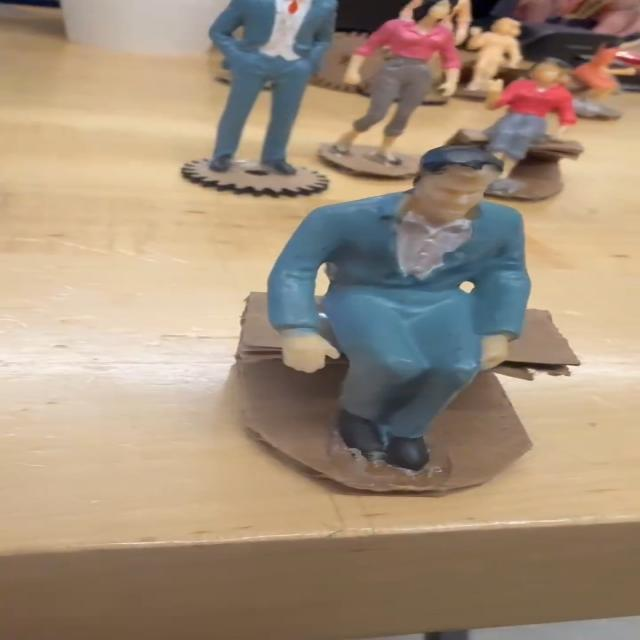Authorized: (240, 136, 539, 486)
